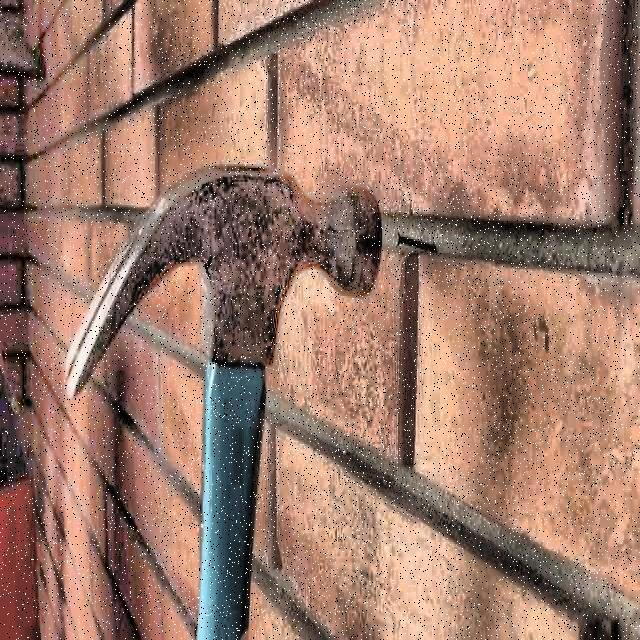hammer: (62, 163, 386, 640)
